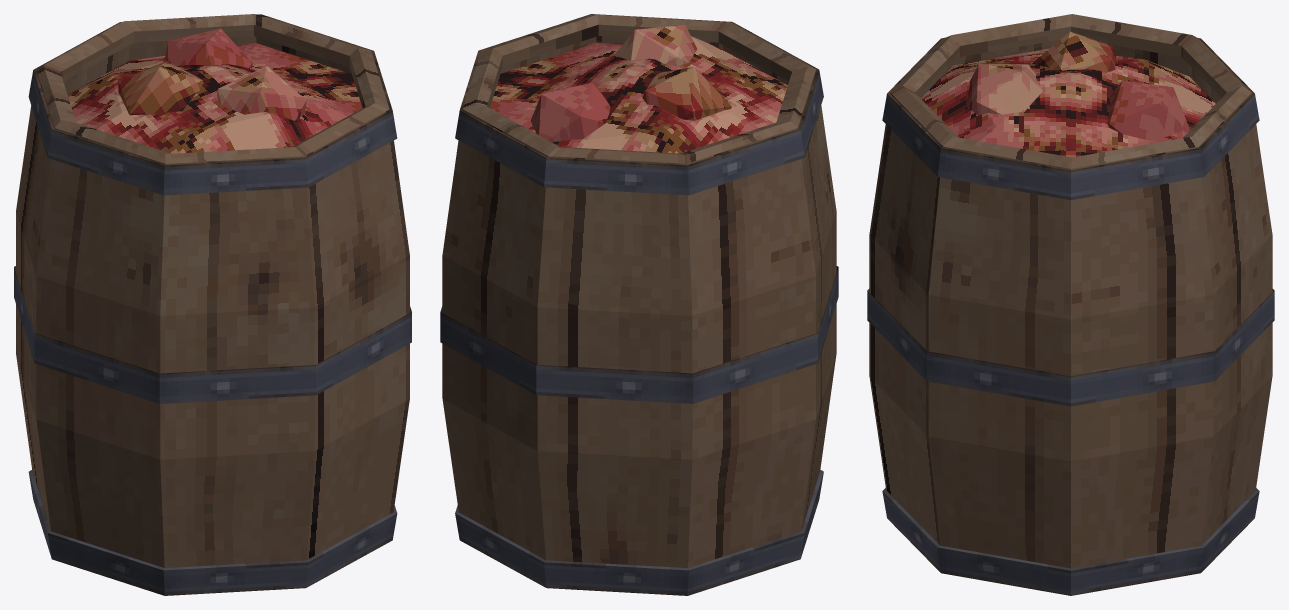
Rendered from barrel_apples.glb.
3 renders of one model, left to right at view 1: azimuth 30°, elevation 25°; view 2: azimuth 150°, elevation 25°; view 3: azimuth 270°, elevation 25°, orthographic.
Visible parts, largest first — view 1: barrel_apples; view 2: barrel_apples; view 3: barrel_apples.
Boxes of the visible parts, <box> form: barrel_apples: <box>14,14,411,595</box>; barrel_apples: <box>440,14,838,595</box>; barrel_apples: <box>867,14,1274,595</box>.
Bounding box in the file's own units: 0.9779 × 1.22 × 0.9779.
3 materials, 3 textured.
